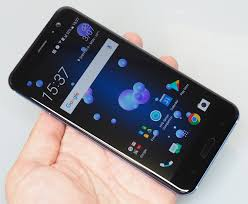htc: (6, 6, 242, 193)
